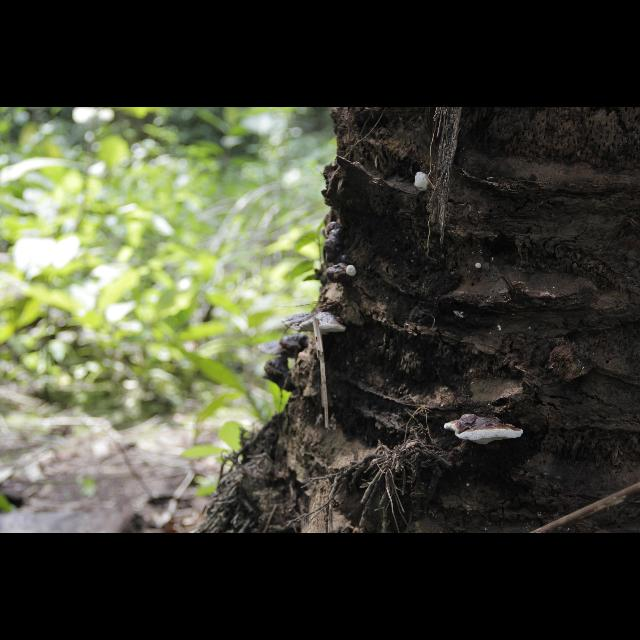ganoderma: (444, 415, 524, 447), (325, 222, 348, 285), (282, 312, 347, 334), (258, 336, 320, 359)
primordium: (415, 172, 432, 192), (346, 266, 358, 278), (476, 264, 482, 270)
